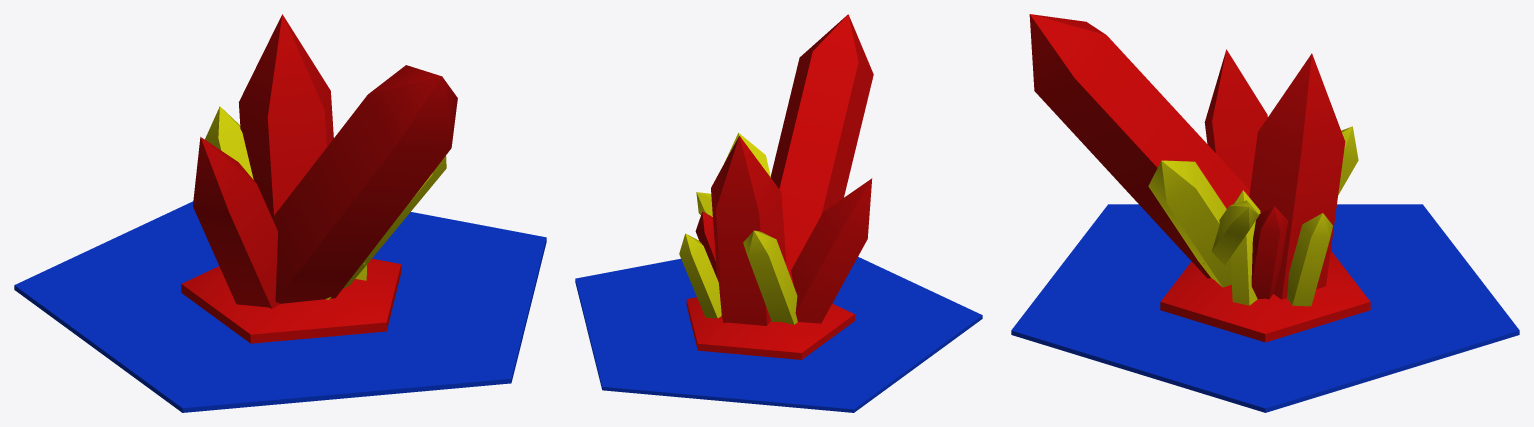
The model's file is Crystal.2.fbx.
3 views of the same model, side by side, from view 1: azimuth 30°, elevation 25°; view 2: azimuth 150°, elevation 25°; view 3: azimuth 270°, elevation 25° (orthographic). The views are drawn at different scales.
Visible parts, largest first — view 1: Cylinder, Cylinder_4, Cylinder_1, Cylinder_9, Cylinder_12, Cylinder_11, Cylinder_3; view 2: Cylinder, Cylinder_4, Cylinder_1, Cylinder_9, Cylinder_12, Cylinder_11, Cylinder_5, Cylinder_7; view 3: Cylinder, Cylinder_4, Cylinder_1, Cylinder_12, Cylinder_3, Cylinder_9, Cylinder_5, Cylinder_7, Cylinder_8, Cylinder_6, Cylinder_11.
Part boxes in pixels (<box>): Cylinder: <box>14,201,546,412</box>; Cylinder_4: <box>272,65,457,303</box>; Cylinder_1: <box>238,14,333,217</box>; Cylinder_9: <box>193,137,279,308</box>; Cylinder_12: <box>181,258,401,343</box>; Cylinder_11: <box>205,106,253,179</box>; Cylinder_3: <box>325,156,446,299</box>; Cylinder: <box>575,257,982,412</box>; Cylinder_4: <box>770,14,873,285</box>; Cylinder_1: <box>711,136,786,325</box>; Cylinder_9: <box>791,178,872,323</box>; Cylinder_12: <box>686,297,854,359</box>; Cylinder_11: <box>743,230,797,324</box>; Cylinder_5: <box>679,233,721,318</box>; Cylinder_7: <box>695,211,717,278</box>; Cylinder: <box>1011,204,1519,412</box>; Cylinder_4: <box>1029,14,1249,278</box>; Cylinder_1: <box>1249,53,1345,299</box>; Cylinder_12: <box>1160,250,1370,342</box>; Cylinder_3: <box>1148,160,1231,287</box>; Cylinder_9: <box>1204,49,1267,189</box>; Cylinder_5: <box>1287,213,1332,306</box>; Cylinder_7: <box>1251,206,1288,299</box>; Cylinder_8: <box>1203,200,1259,264</box>; Cylinder_6: <box>1230,190,1260,305</box>; Cylinder_11: <box>1338,126,1358,194</box>.
Size of the model in its own units: 1316 by 882 by 1383.
